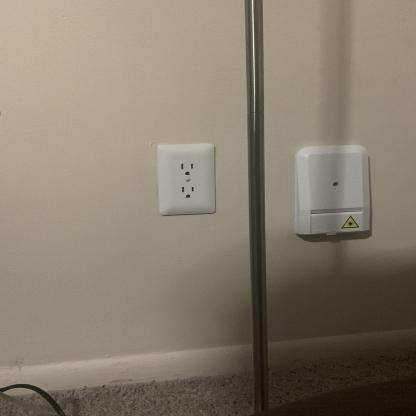OUTLET: (155, 144, 214, 214)
